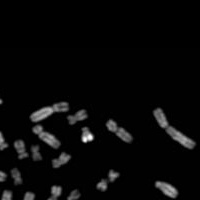chromosome: (154, 107, 196, 148), (30, 102, 68, 122), (31, 124, 60, 149), (105, 119, 132, 143), (155, 180, 178, 198), (52, 151, 70, 168), (67, 109, 86, 124), (14, 140, 28, 160), (42, 186, 61, 200), (80, 127, 93, 142), (10, 167, 21, 184), (30, 145, 41, 161), (67, 188, 80, 200), (108, 169, 119, 182), (96, 178, 107, 191), (0, 131, 7, 151), (0, 156, 5, 181), (0, 190, 12, 200), (22, 192, 34, 200), (0, 92, 2, 126)
